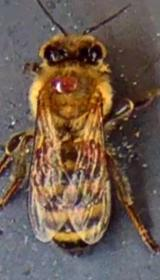varroa_mite: (48, 68, 86, 107)
